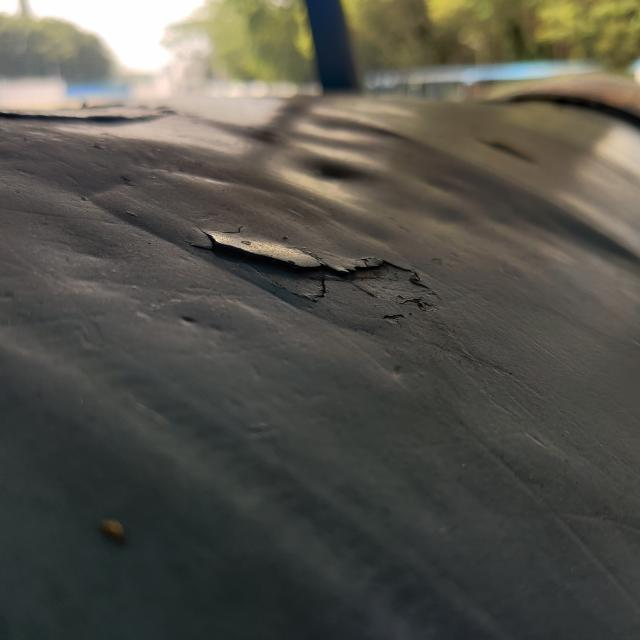crack: (181, 222, 450, 320)
dent: (266, 128, 396, 218)
